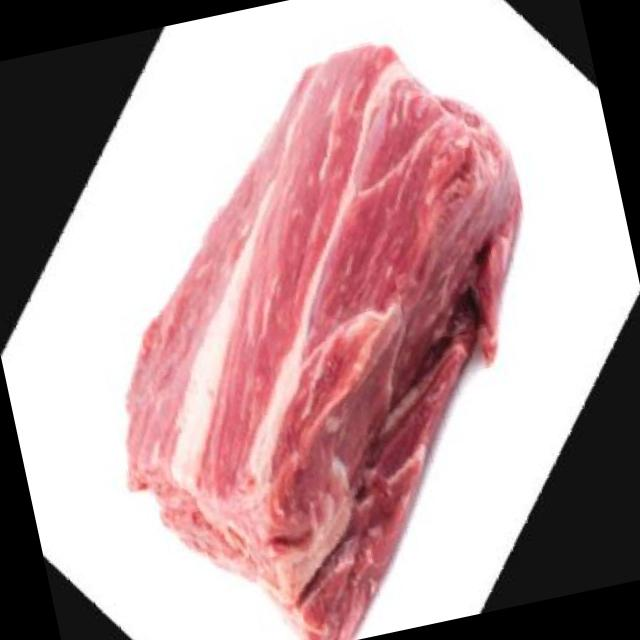beef: (47, 18, 611, 640)
